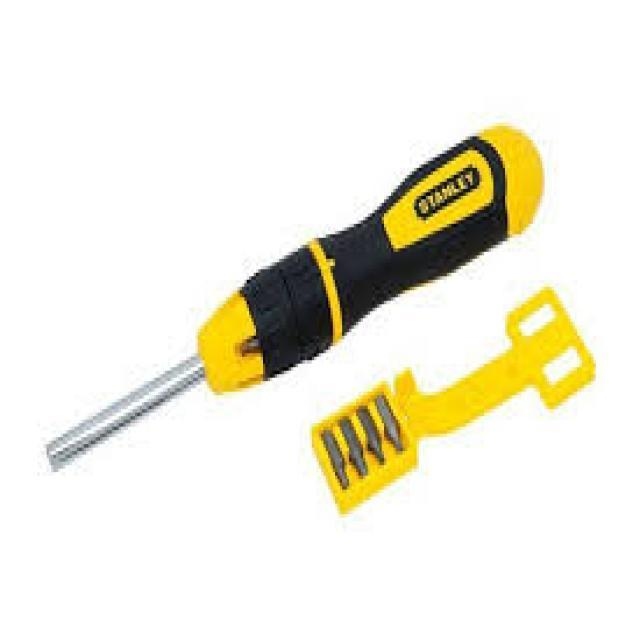screwdriver: (36, 124, 544, 474)
